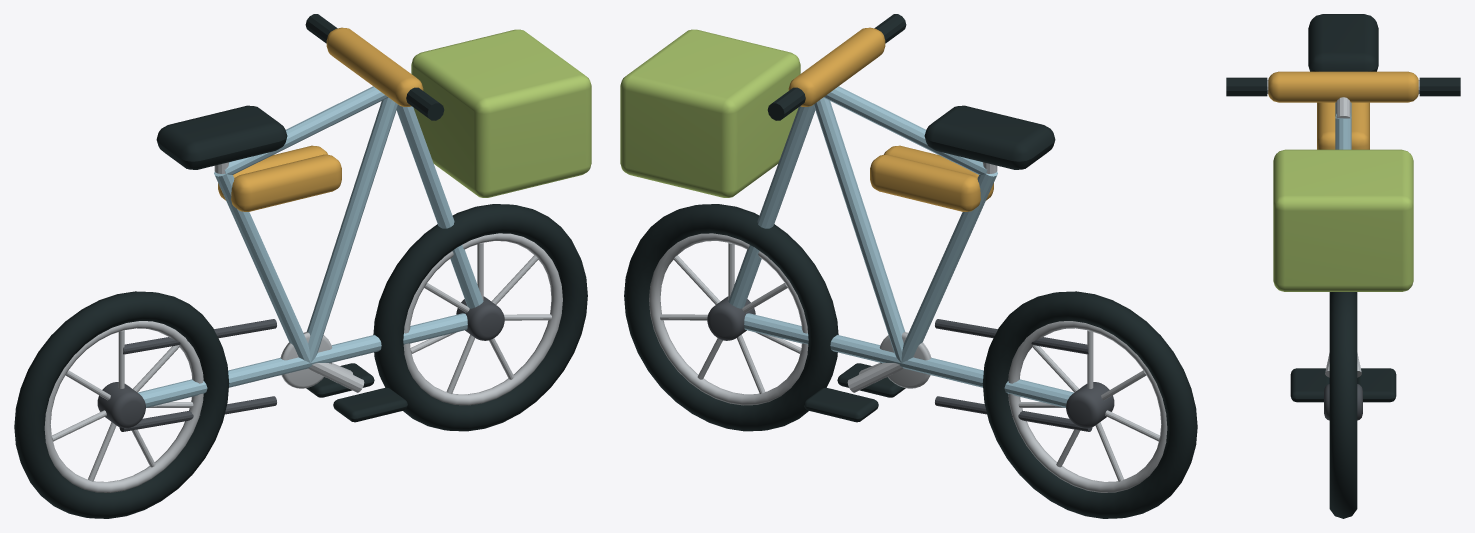
Rendered from bike_kids_c.glb.
3 renders of one model, left to right at view 1: azimuth 30°, elevation 25°; view 2: azimuth 150°, elevation 25°; view 3: azimuth 270°, elevation 25°, orthographic. The views are drawn at different scales.
Visible parts, largest first — view 1: Front basket.001, Tint, Rear wheel tyre.006, Front wheel tyre.006, Saddle.006, Front wheel rim.006, Rear wheel rim.006, Frame pad, Bar pad, Pedal.010, Rear wheel hub.006, Front wheel hub.006 (+7 smaller); view 2: Front basket.001, Tint, Rear wheel tyre.006, Front wheel tyre.006, Saddle.006, Front wheel rim.006, Rear wheel rim.006, Frame pad.001, Bar pad, Pedal.011, Rear wheel hub.006, Front wheel hub.006 (+7 smaller); view 3: Front basket.001, Front wheel tyre.006, Bar pad, Saddle.006, Pedal.010, Pedal.011, Frame pad, Frame pad.001, Handle grip.014, Handle grip.015, Tint, Front wheel hub.006 (+1 smaller).
Part boxes in pixels (left/top/right/bottom): Front basket.001: left=411, top=29, right=591, bottom=197; Tint: left=138, top=86, right=483, bottom=407; Rear wheel tyre.006: left=14, top=291, right=229, bottom=518; Front wheel tyre.006: left=373, top=204, right=587, bottom=431; Saddle.006: left=156, top=105, right=287, bottom=169; Front wheel rim.006: left=403, top=233, right=562, bottom=405; Rear wheel rim.006: left=44, top=321, right=203, bottom=492; Frame pad: left=231, top=154, right=341, bottom=211; Bar pad: left=326, top=27, right=423, bottom=106; Pedal.010: left=333, top=387, right=407, bottom=422; Rear wheel hub.006: left=97, top=382, right=145, bottom=428; Front wheel hub.006: left=456, top=296, right=504, bottom=340; Front basket.001: left=620, top=29, right=800, bottom=197; Tint: left=728, top=86, right=1073, bottom=407; Rear wheel tyre.006: left=982, top=291, right=1197, bottom=518; Front wheel tyre.006: left=624, top=204, right=838, bottom=431; Saddle.006: left=924, top=105, right=1055, bottom=169; Front wheel rim.006: left=649, top=233, right=808, bottom=405; Rear wheel rim.006: left=1008, top=321, right=1167, bottom=492; Frame pad.001: left=870, top=154, right=980, bottom=211; Bar pad: left=788, top=27, right=885, bottom=106; Pedal.011: left=804, top=387, right=878, bottom=422; Rear wheel hub.006: left=1066, top=382, right=1114, bottom=428; Front wheel hub.006: left=707, top=296, right=755, bottom=340; Front basket.001: left=1273, top=149, right=1413, bottom=291; Front wheel tyre.006: left=1329, top=292, right=1357, bottom=518; Bar pad: left=1268, top=71, right=1418, bottom=102; Saddle.006: left=1308, top=14, right=1378, bottom=71; Pedal.010: left=1290, top=368, right=1329, bottom=402; Pedal.011: left=1357, top=368, right=1396, bottom=402; Frame pad: left=1317, top=102, right=1335, bottom=149; Frame pad.001: left=1351, top=102, right=1369, bottom=149; Handle grip.014: left=1226, top=77, right=1267, bottom=96; Handle grip.015: left=1419, top=77, right=1460, bottom=96; Tint: left=1335, top=102, right=1351, bottom=149; Front wheel hub.006: left=1324, top=384, right=1362, bottom=420.
Size of the model in its own units: 1.08 by 0.725 by 0.4.
